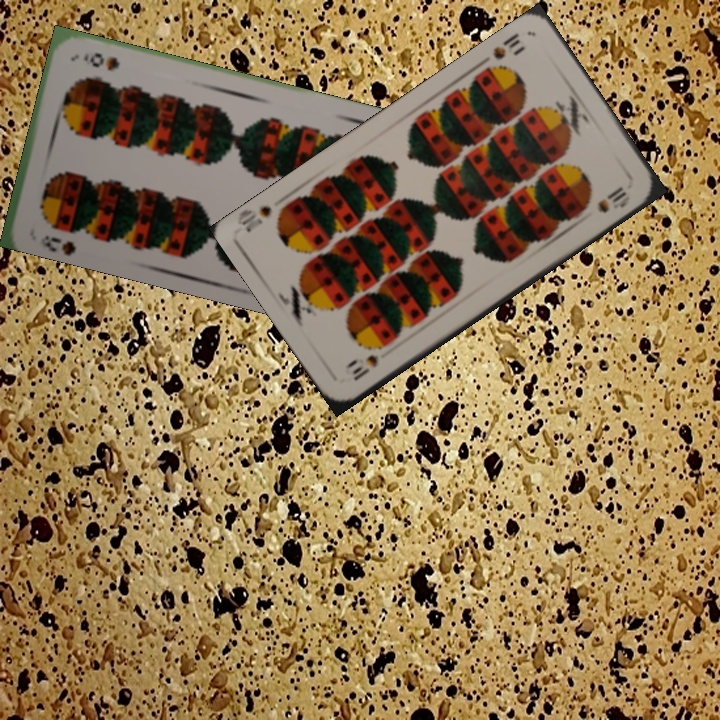S10: (488, 28, 523, 62), (348, 350, 382, 384)
S8: (36, 231, 79, 256)
